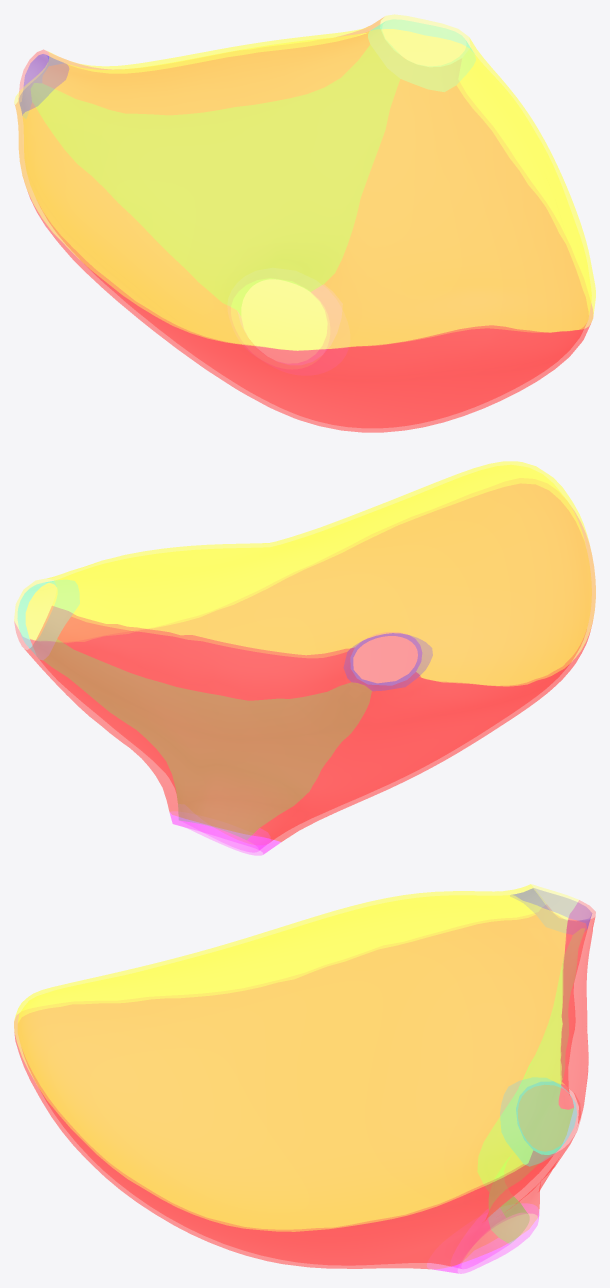
The model's file is harnblase-male.glb.
3 views of the same model, one above another, from view 1: azimuth 30°, elevation 25°; view 2: azimuth 150°, elevation 25°; view 3: azimuth 270°, elevation 25° (orthographic). The views are drawn at different scales.
Visible parts, largest first — view 1: 0:6:VH_M_fundus_of_urinary_bladder_dome, 0:1:VH_M_fundus_of_urinary_bladder_base1, 0:3:VH_M_ureteral_orifice_R, 0:2:VH_M_ureteral_orifice_L, 0:7:VH_M_urinary_bladder_neck_smooth_muscle; view 2: 0:1:VH_M_fundus_of_urinary_bladder_base1, 0:6:VH_M_fundus_of_urinary_bladder_dome, 0:0:VH_M_trigone_of_urinary_bladder, 0:2:VH_M_ureteral_orifice_L, 0:7:VH_M_urinary_bladder_neck_smooth_muscle, 0:3:VH_M_ureteral_orifice_R; view 3: 0:1:VH_M_fundus_of_urinary_bladder_base1, 0:6:VH_M_fundus_of_urinary_bladder_dome, 0:0:VH_M_trigone_of_urinary_bladder, 0:7:VH_M_urinary_bladder_neck_smooth_muscle, 0:2:VH_M_ureteral_orifice_L, 0:3:VH_M_ureteral_orifice_R.
Part boxes in pixels (bbox=[...]): 0:6:VH_M_fundus_of_urinary_bladder_dome: bbox=[14, 14, 595, 350]; 0:1:VH_M_fundus_of_urinary_bladder_base1: bbox=[15, 18, 592, 432]; 0:3:VH_M_ureteral_orifice_R: bbox=[19, 54, 68, 115]; 0:2:VH_M_ureteral_orifice_L: bbox=[371, 19, 473, 52]; 0:7:VH_M_urinary_bladder_neck_smooth_muscle: bbox=[311, 285, 341, 353]; 0:1:VH_M_fundus_of_urinary_bladder_base1: bbox=[14, 483, 595, 844]; 0:6:VH_M_fundus_of_urinary_bladder_dome: bbox=[14, 461, 595, 686]; 0:0:VH_M_trigone_of_urinary_bladder: bbox=[44, 639, 371, 839]; 0:2:VH_M_ureteral_orifice_L: bbox=[17, 580, 79, 659]; 0:7:VH_M_urinary_bladder_neck_smooth_muscle: bbox=[170, 811, 280, 855]; 0:3:VH_M_ureteral_orifice_R: bbox=[344, 633, 432, 690]; 0:1:VH_M_fundus_of_urinary_bladder_base1: bbox=[14, 900, 595, 1269]; 0:6:VH_M_fundus_of_urinary_bladder_dome: bbox=[14, 884, 578, 1231]; 0:0:VH_M_trigone_of_urinary_bladder: bbox=[488, 942, 573, 1243]; 0:7:VH_M_urinary_bladder_neck_smooth_muscle: bbox=[427, 1203, 539, 1273]; 0:2:VH_M_ureteral_orifice_L: bbox=[500, 1077, 576, 1166]; 0:3:VH_M_ureteral_orifice_R: bbox=[512, 888, 591, 928].
Size of the model in its own units: 0.0638 by 0.0399 by 0.0723.
